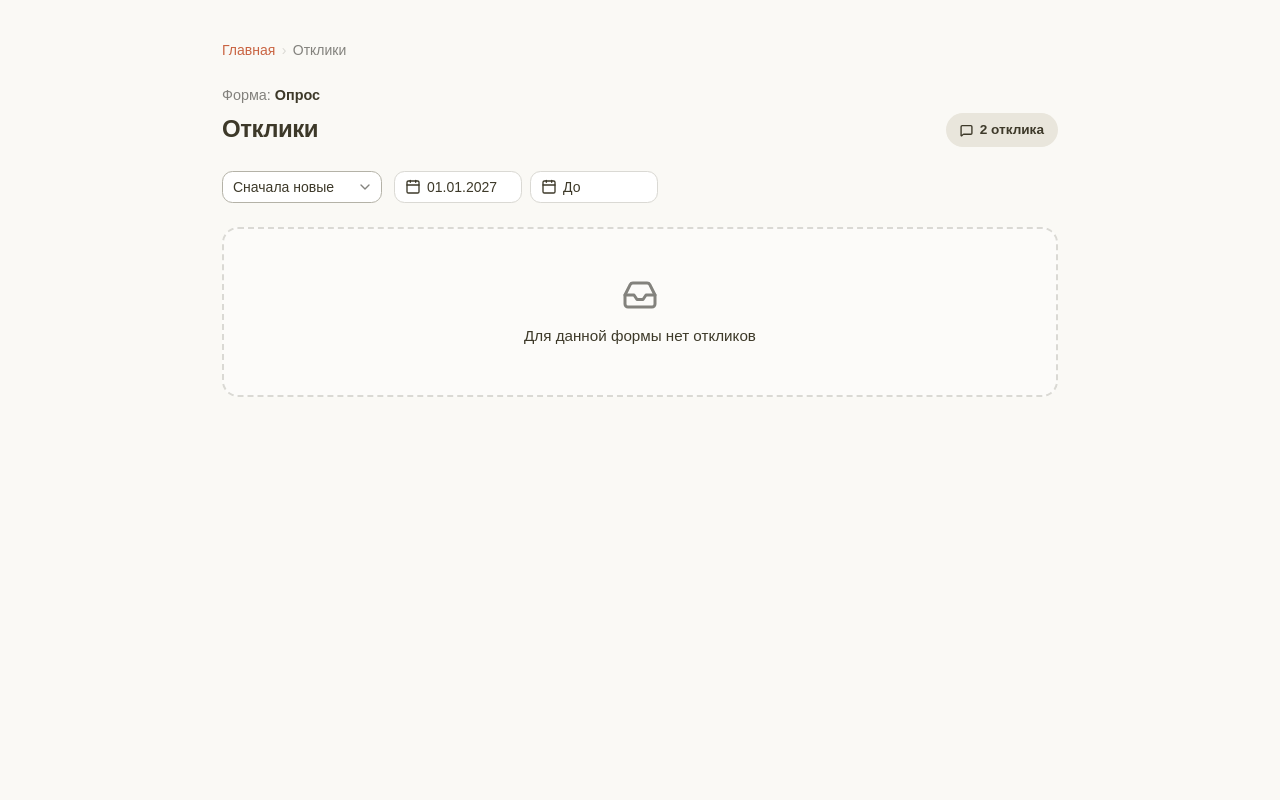
Scenario: ResponsesList › сужающий фильтр dateFrom отрезает всё → EmptyState; очистка возвращает список
Expected: the text "Для данной формы нет откликов" is shown, x1=524 y1=325 x2=756 y2=347
Click the button named "дата от": {"x": 458, "y": 187} x1=394 y1=171 x2=522 y2=203
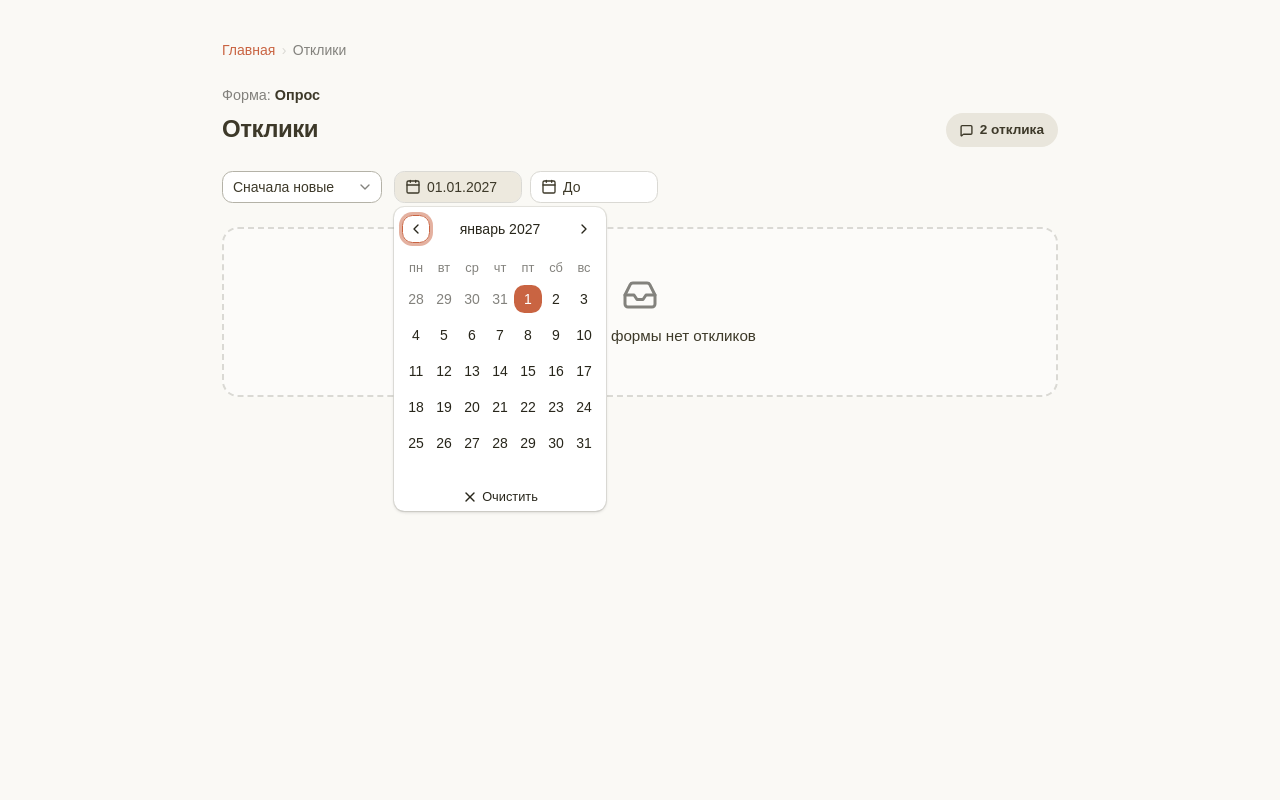
Click the button "Очистить": {"x": 500, "y": 497} x1=394 y1=483 x2=606 y2=511
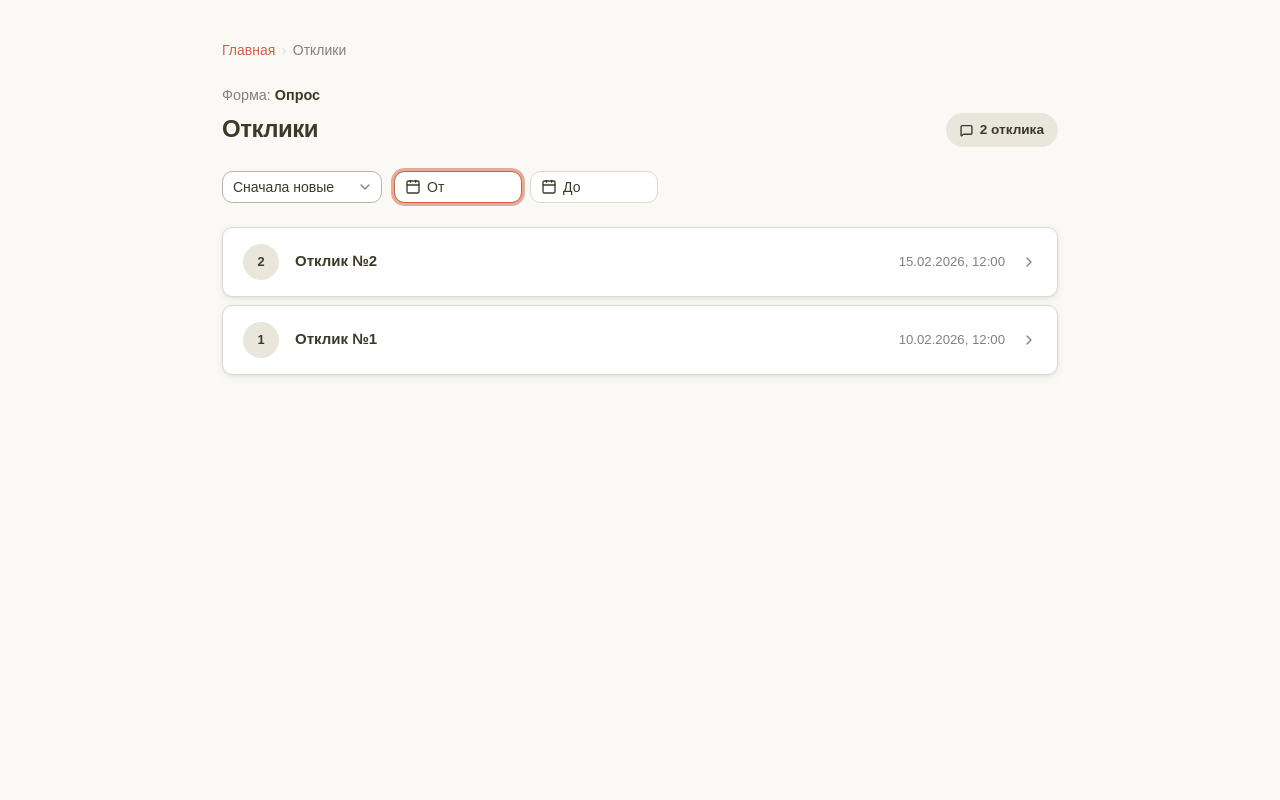
Expected: the text "Для данной формы нет откликов" is gone
